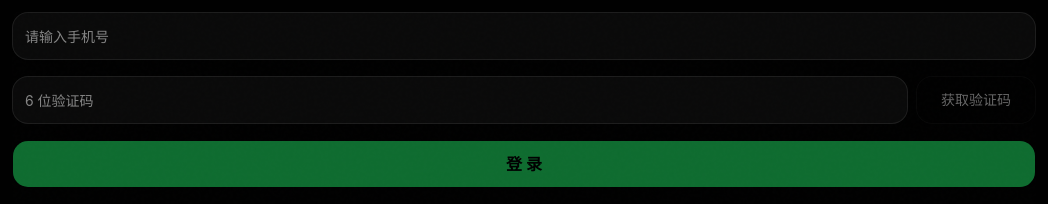
Scenario: PhoneLoginForm › captcha send button + countdown › disables button and shows countdown text after sending
In the field with placeholder "请输入手机号": point(524, 36) [12, 12, 1036, 60], type "13800138000"
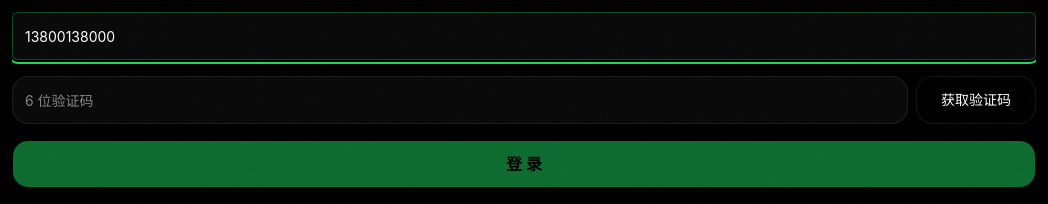
Click the button "获取验证码": point(976, 100) [916, 76, 1036, 124]
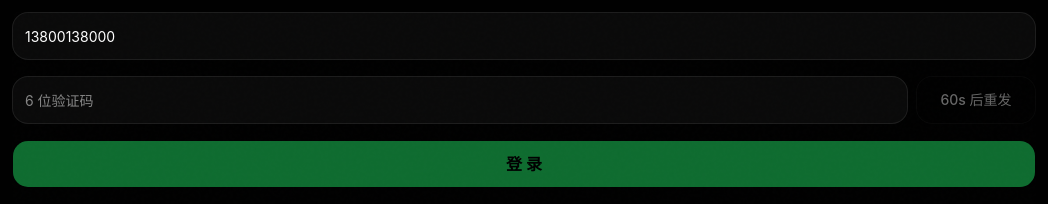
Check: the button "60s 后重发" is disabled, box [916, 76, 1036, 124]
Check: the button "60s 后重发" is shown, box [916, 76, 1036, 124]
